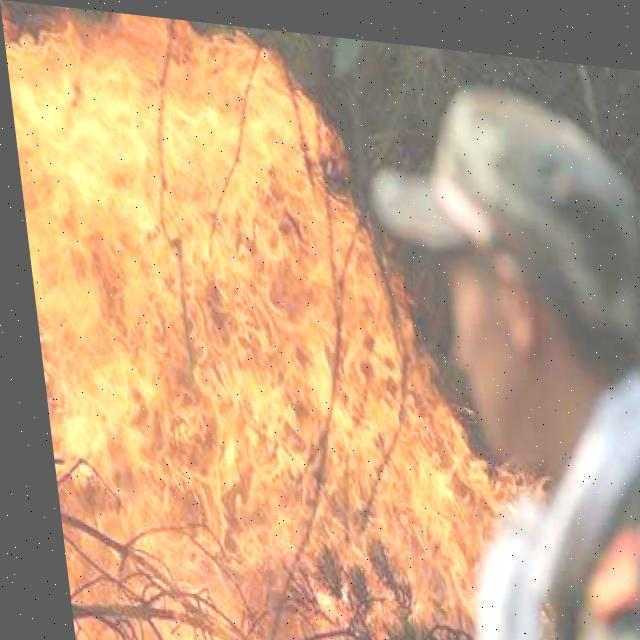Fire: (0, 0, 564, 639)
